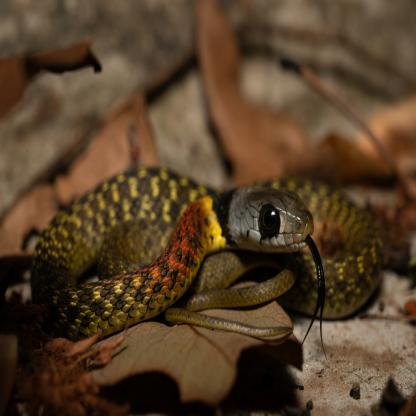Snake: (29, 162, 384, 340)
